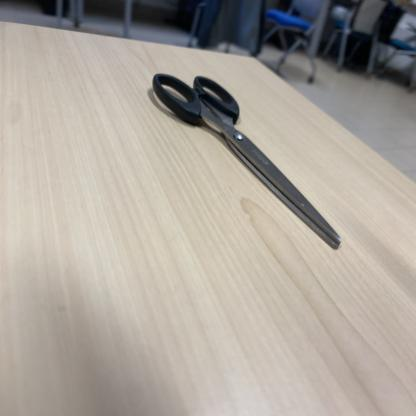scissors: (154, 74, 342, 249)
